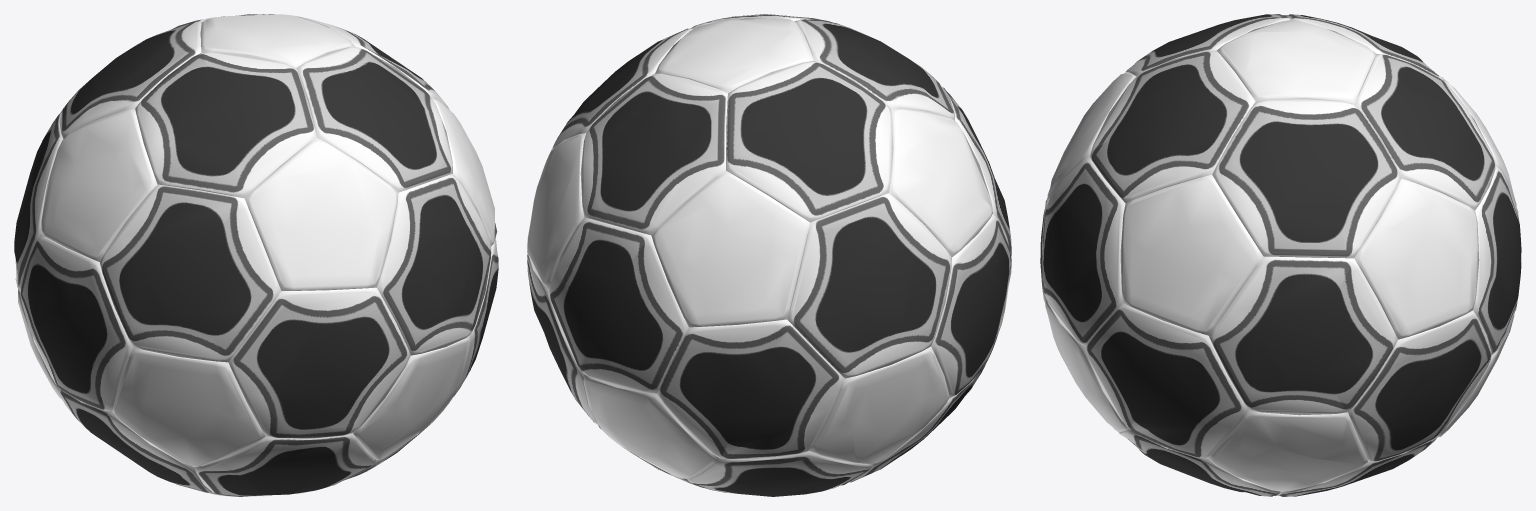
The model's file is lopta.glb.
3 views of the same model, side by side, from view 1: azimuth 30°, elevation 25°; view 2: azimuth 150°, elevation 25°; view 3: azimuth 270°, elevation 25° (orthographic).
Parts seen in each view (by area): view 1: Soccer Ball; view 2: Soccer Ball; view 3: Soccer Ball.
Boxes of the visible parts, left/top/right/bottom form: Soccer Ball: left=14, top=14, right=498, bottom=496; Soccer Ball: left=527, top=14, right=1011, bottom=496; Soccer Ball: left=1040, top=14, right=1521, bottom=496.
Bounding box in the file's own units: 32.95 × 32.92 × 32.86.
Materials: 1 (1 with a texture image).
